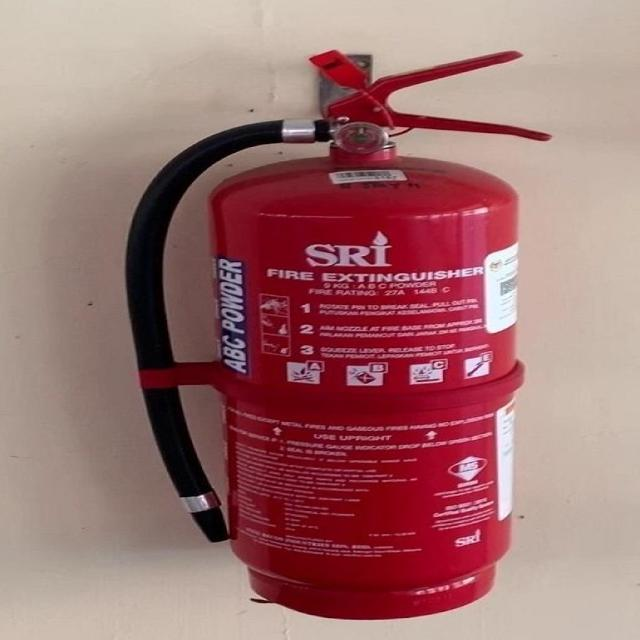fire_extinguisher: (114, 42, 570, 625)
